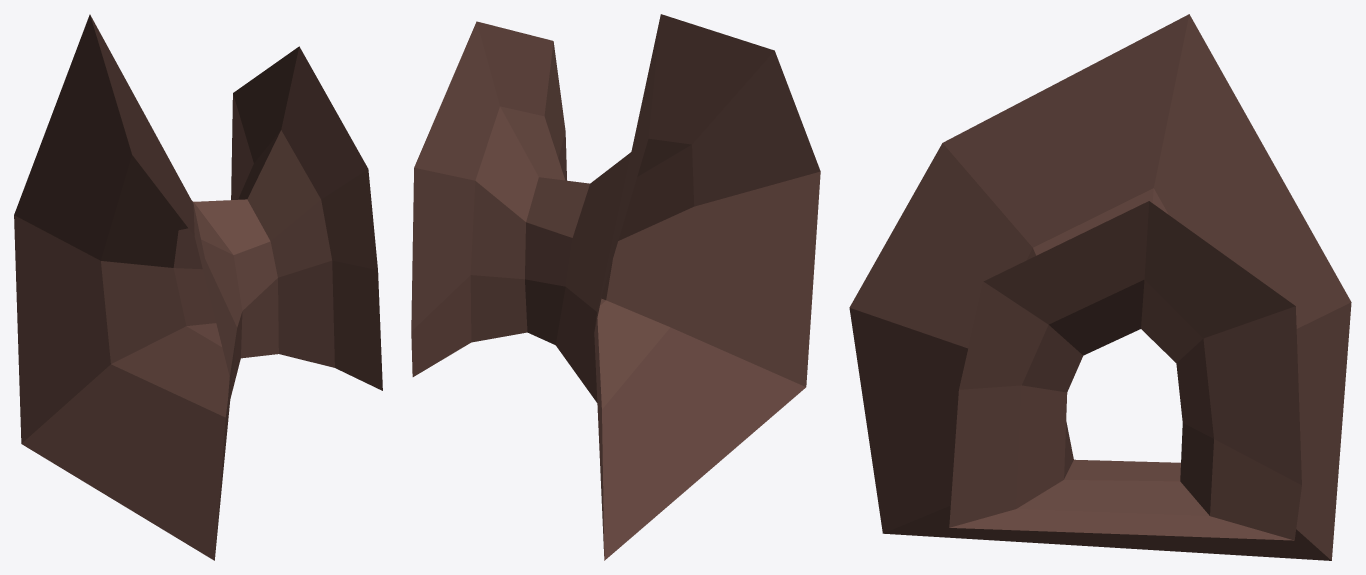
The model's file is DomeExit-adapter-06.fbx.
3 renders of one model, left to right at view 1: azimuth 30°, elevation 25°; view 2: azimuth 150°, elevation 25°; view 3: azimuth 270°, elevation 25°, orthographic. The views are drawn at different scales.
Visible parts, largest first — view 1: DomeExit-adapter-06; view 2: DomeExit-adapter-06; view 3: DomeExit-adapter-06.
Boxes of the visible parts, left/top/right/bottom form: DomeExit-adapter-06: left=14, top=14, right=382, bottom=560; DomeExit-adapter-06: left=411, top=14, right=820, bottom=560; DomeExit-adapter-06: left=849, top=14, right=1351, bottom=560.
Size of the model in its own units: 556 by 1259 by 1039.
